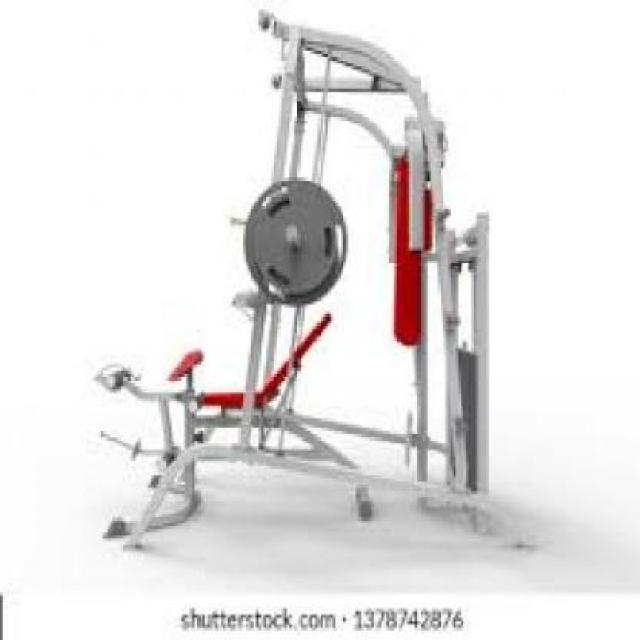smith machine: (97, 8, 489, 555)
